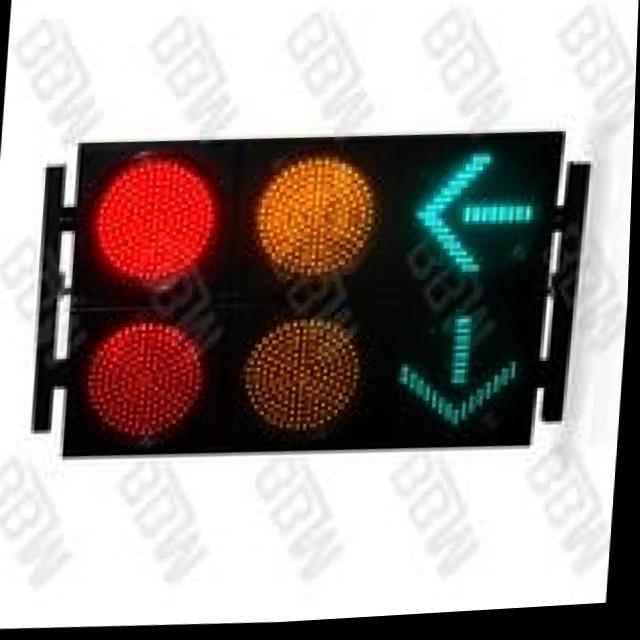red_light: (64, 156, 247, 306)
